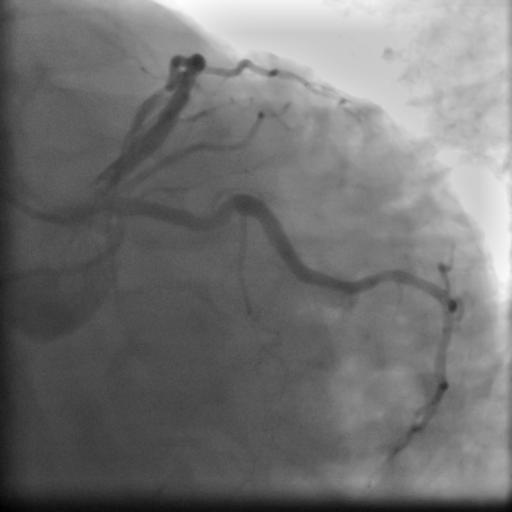Stenosis: (209, 202, 235, 223)
